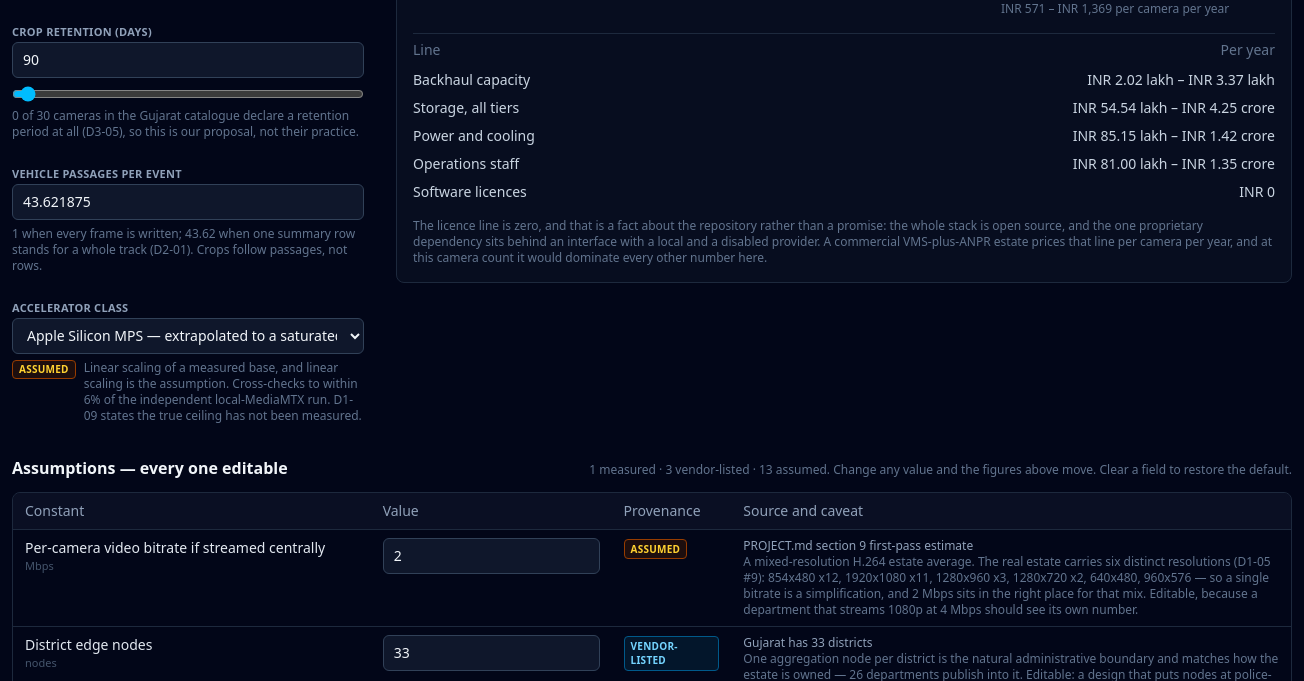
Test case: the sizing calculator recomputes from its inputs (AC 1) › recomputes when the accelerator class changes
The width and height of the screenshot is (1304, 681).
(page scrolled)
Select "NVIDIA L4 / A10 class — 25 streams @ 25 fps" in the dropdown labelled "Accelerator class": (188, 336) [12,318,364,354]
(page scrolled)
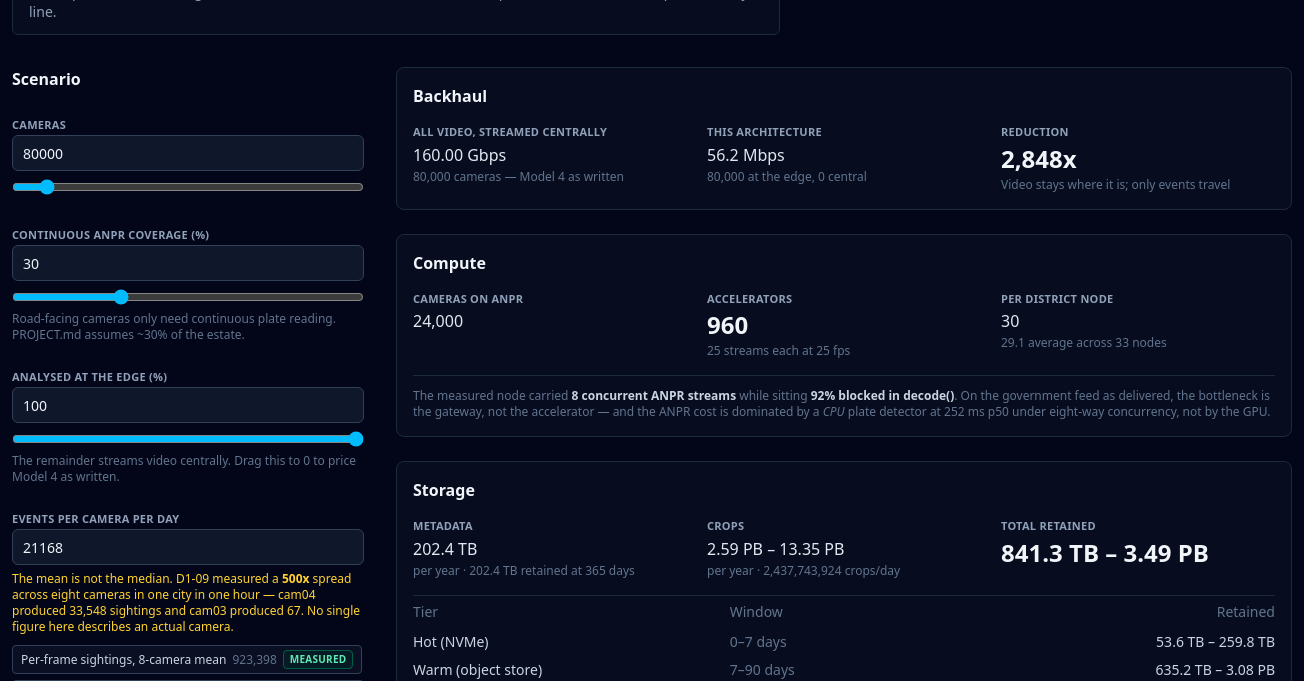
Result: the element with test id "compute" shows "960" at [707,308,748,341]
